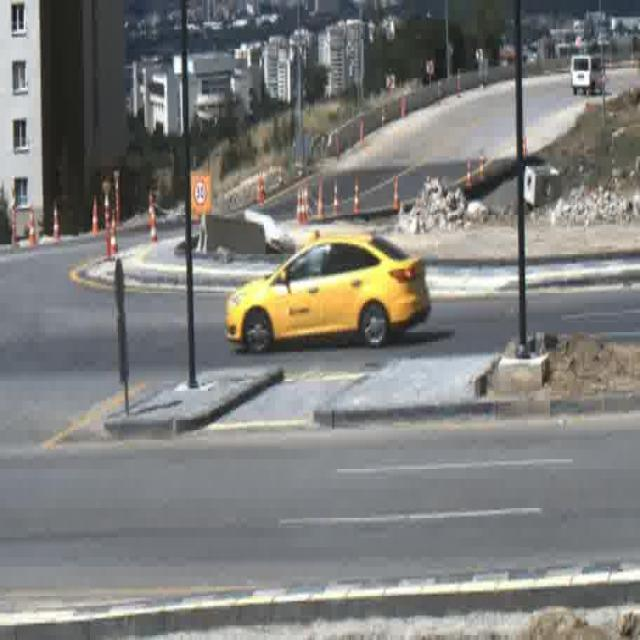Car: (226, 232, 433, 359), (569, 55, 602, 96)
